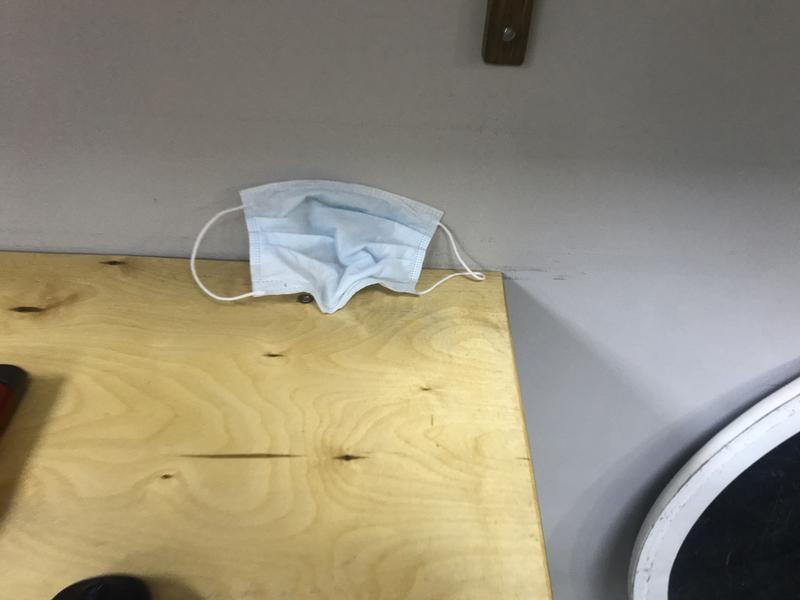medical_mask: (190, 179, 485, 314)
